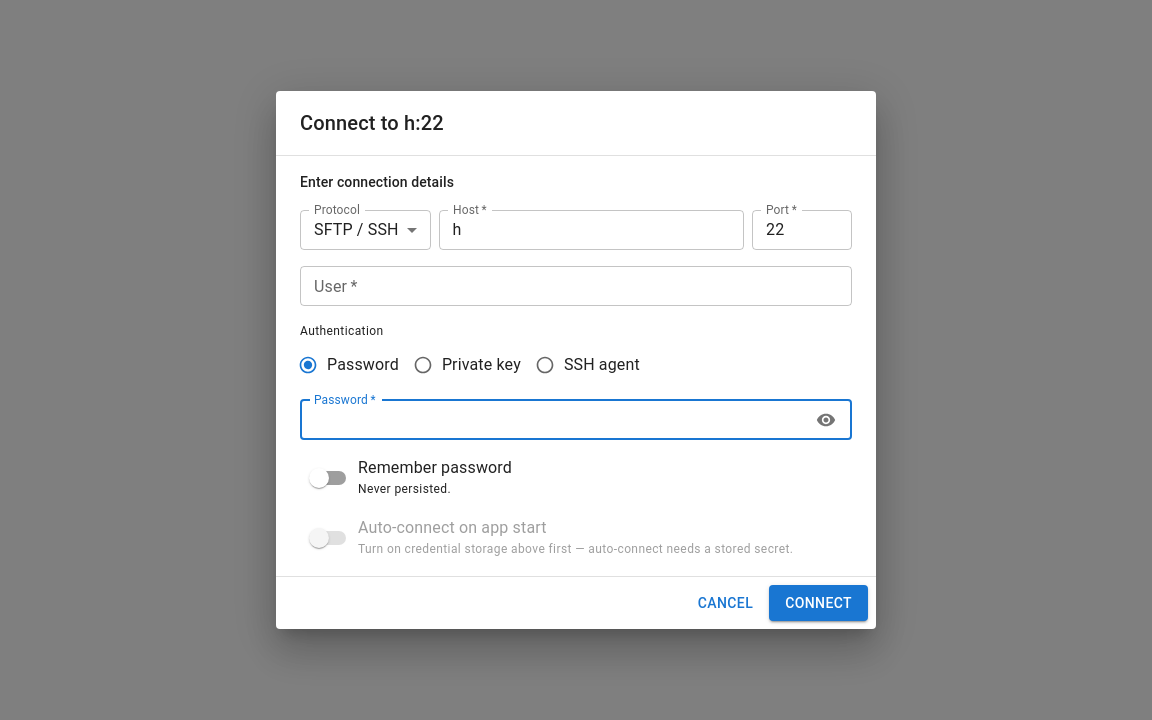
Test case: RemoteConnectDialog › switching protocol to FTP updates the port default
Press the mouse on the dropdown named "Protocol" at (356, 230), box [314,220,399,239]
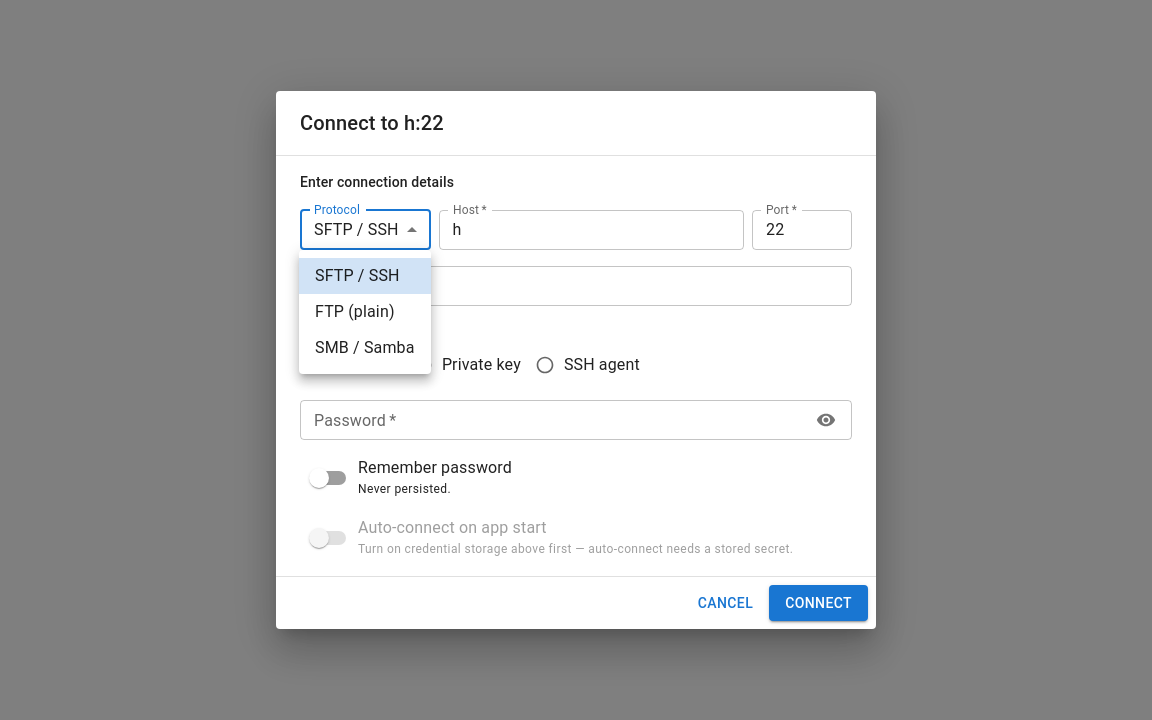
Click the option "FTP (plain)".
click(355, 312)  # box [315,302,395,321]
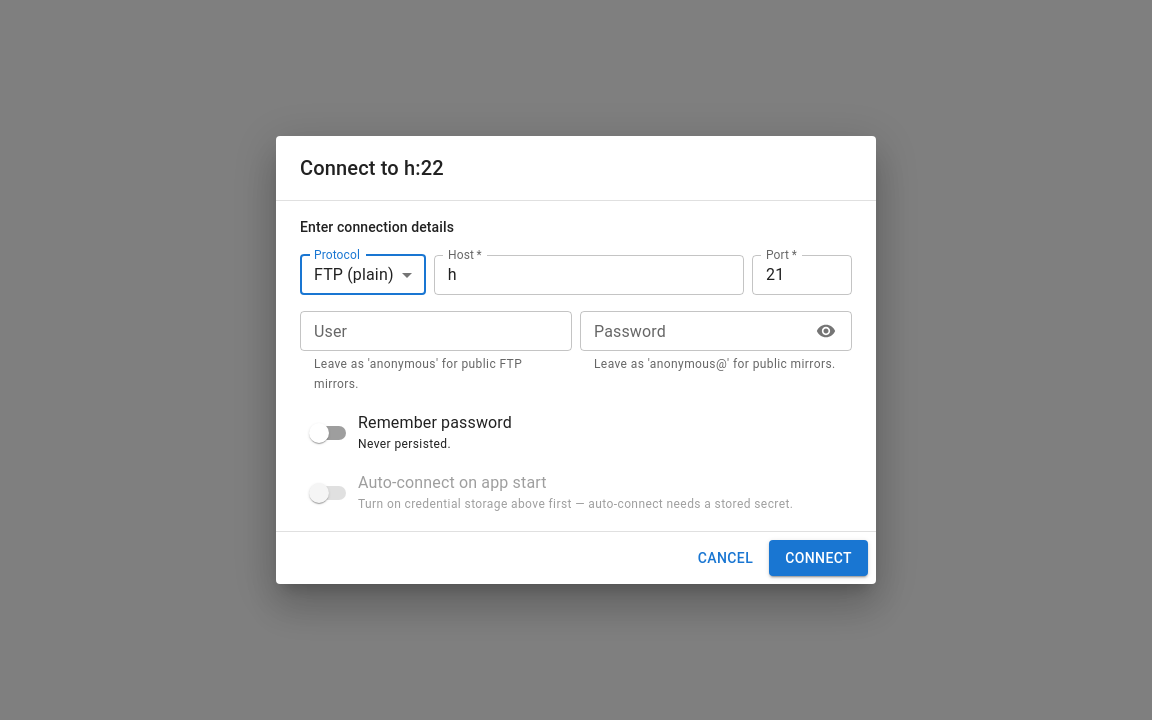
Expected: the number field labelled "Port *" holds "21", [752,255,852,295]
